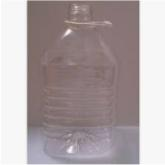plastic_bottle: (39, 4, 126, 157)
